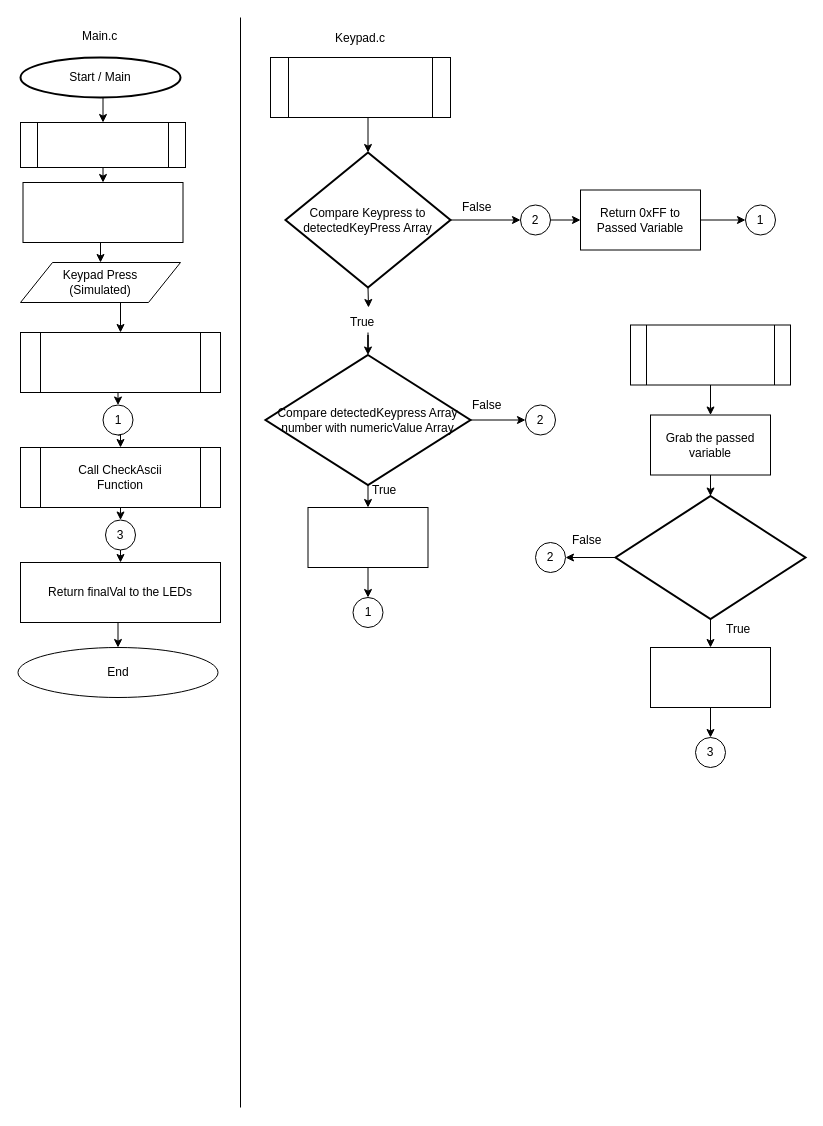
Some shapes in this 823 by 1126 pixel diagram are drawn without their labels. The centre of each missing label's shape, as x and y in pixels:
"Call DetectedNumericKey Function" belongs at pixel 120 362.
"CheckAscii Function" belongs at pixel 710 354.
"Compare detectedKeypres Array num with asciiValue Array" belongs at pixel 710 557.
"DetectedNumericKey Function" belongs at pixel 360 87.
"Initialized I/Os" belongs at pixel 103 145.
"Send array location to passed variable" belongs at pixel 367 537.
"Send character to final Variable" belongs at pixel 710 677.
"Set Variables need in main" belongs at pixel 102 212.
